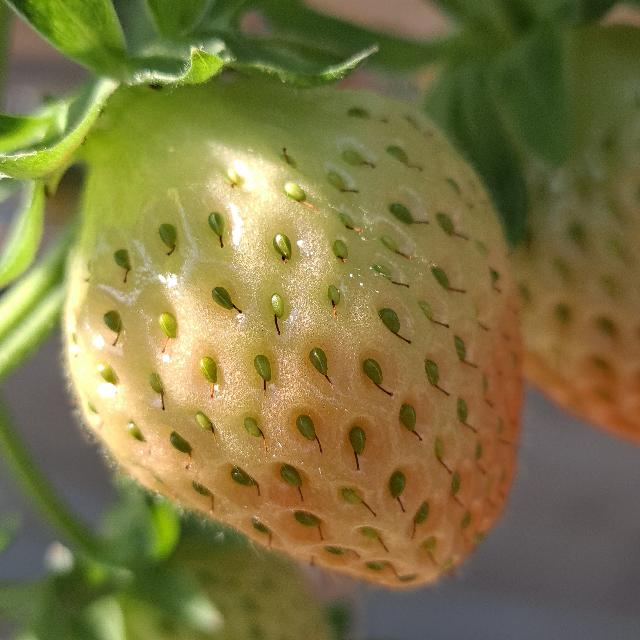Health_50: (62, 73, 522, 587)
